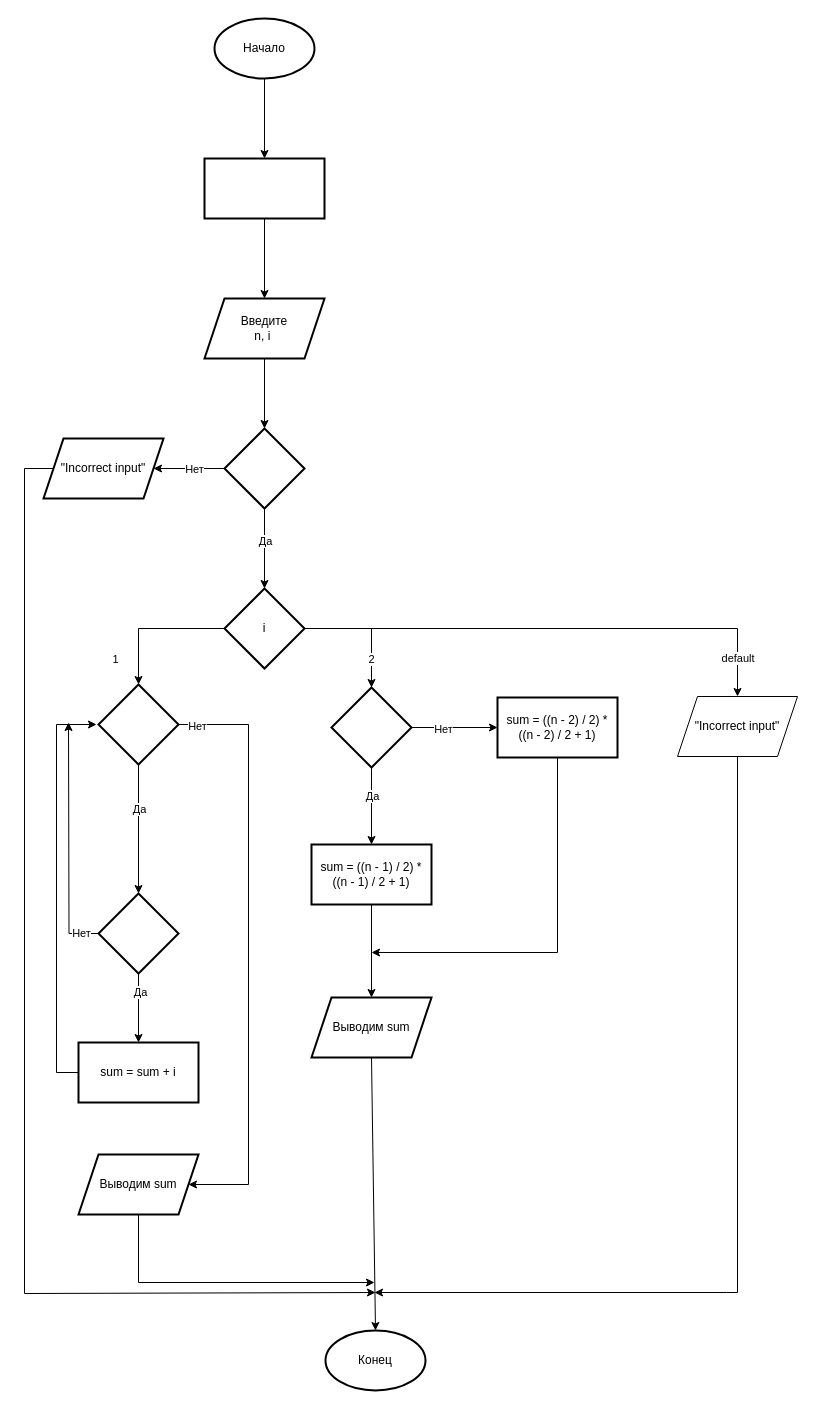
Image size: 815x1408. Some labels were removed from this diagram. The shapes that lost their labels are listed below. From the top down, each one's centre as x and y in pixels, then its label:
At point (264, 188): "sum = 0".
At point (264, 468): "n > 0".
At point (138, 724): "int i = 1; i < n; i++".
At point (371, 727): "(n - 1) % 2 == 0".
At point (138, 933): "i % 2 == 0".
